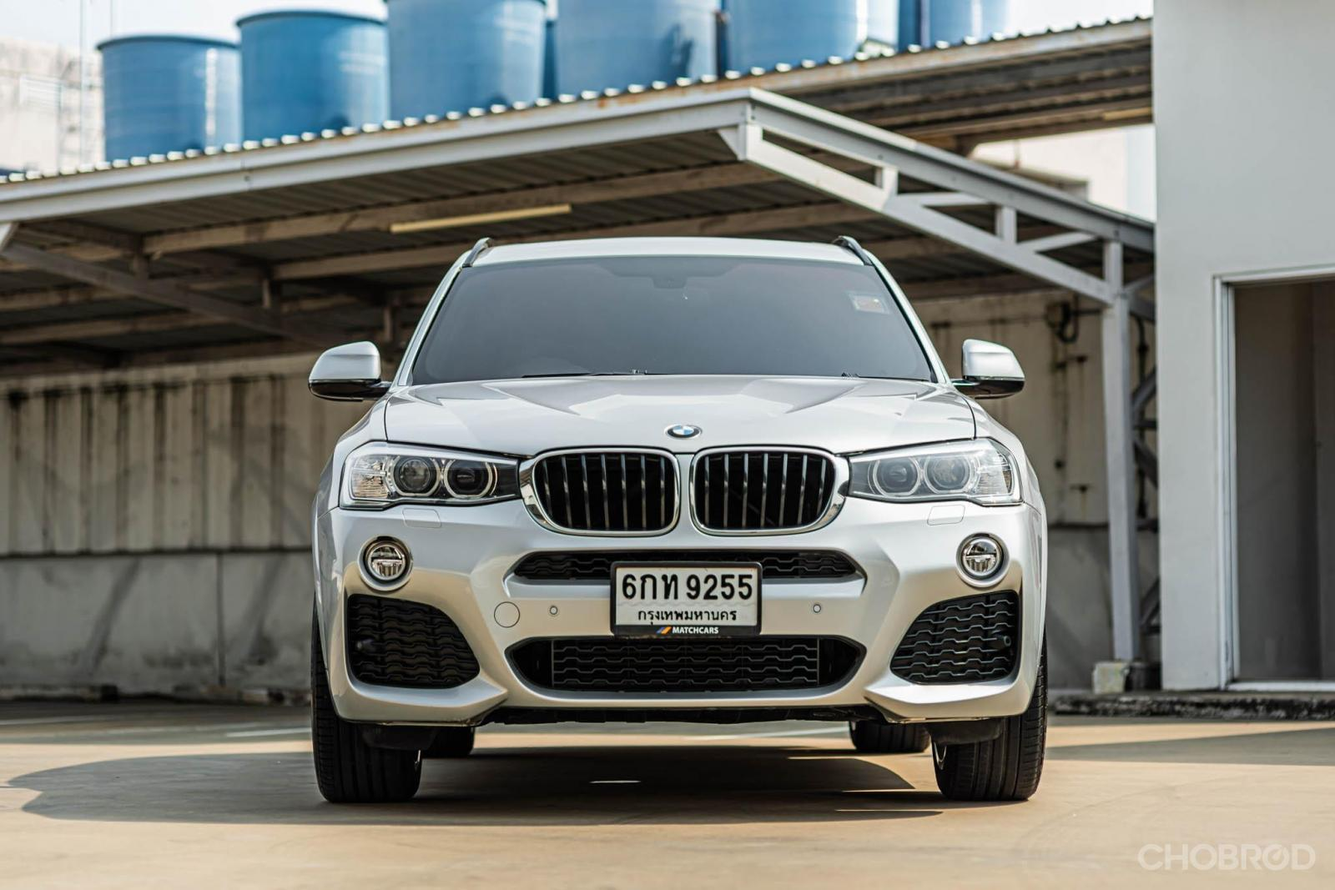license-plate: (601, 552, 770, 641)
